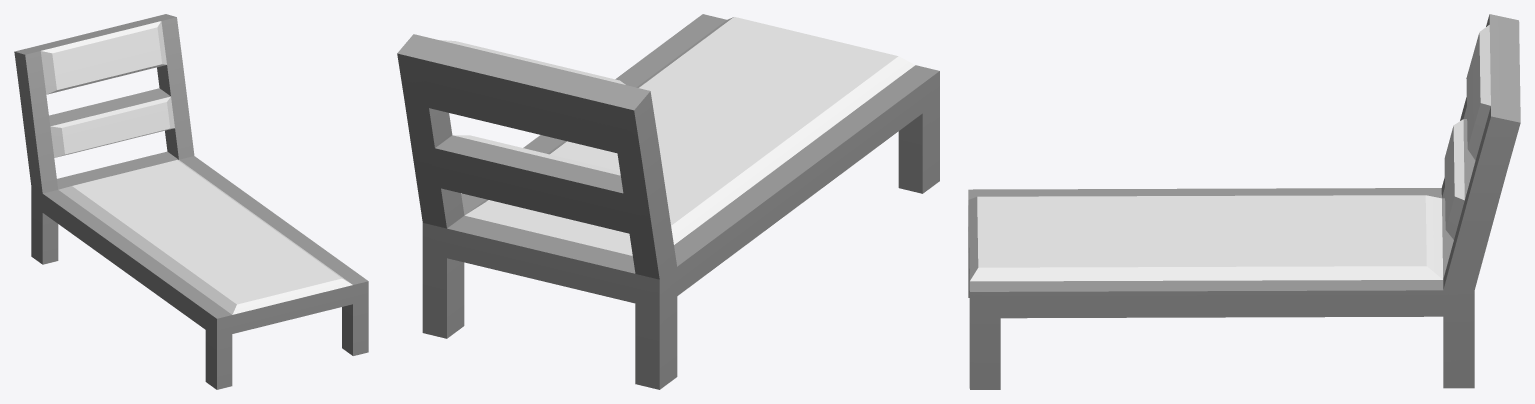
Rendered from deck chair.fbx.
3 views of the same model, side by side, from view 1: azimuth 30°, elevation 25°; view 2: azimuth 150°, elevation 25°; view 3: azimuth 270°, elevation 25° (orthographic). The views are drawn at different scales.
Visible parts, largest first — view 1: deck_chair; view 2: deck_chair; view 3: deck_chair.
Boxes of the visible parts, x1=… form: deck_chair: x1=14, y1=14, x2=368, y2=389; deck_chair: x1=397, y1=14, x2=939, y2=389; deck_chair: x1=968, y1=14, x2=1520, y2=389.
Size of the model in its own units: 68.44 by 83.27 by 153.
1 material, 1 textured.
